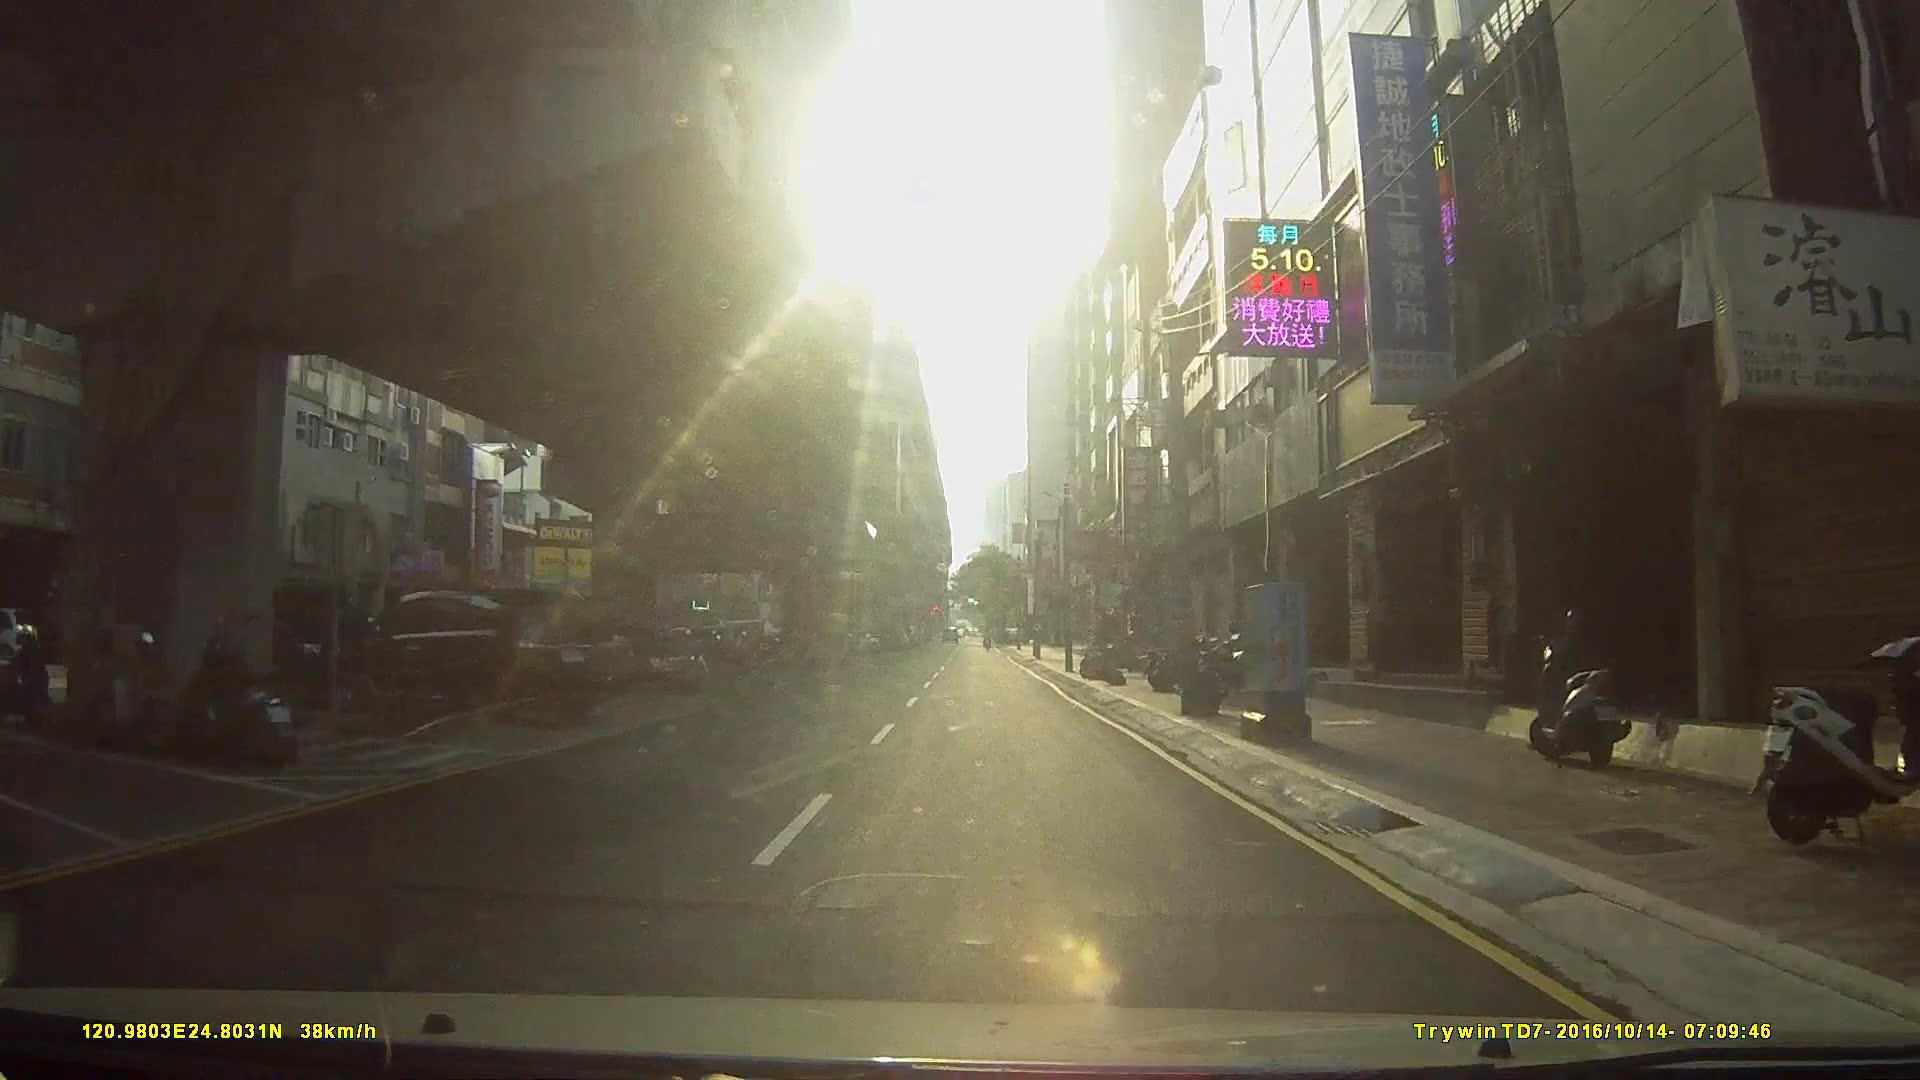vehicle: (324, 582, 612, 723), (191, 578, 367, 698), (578, 620, 704, 691)
